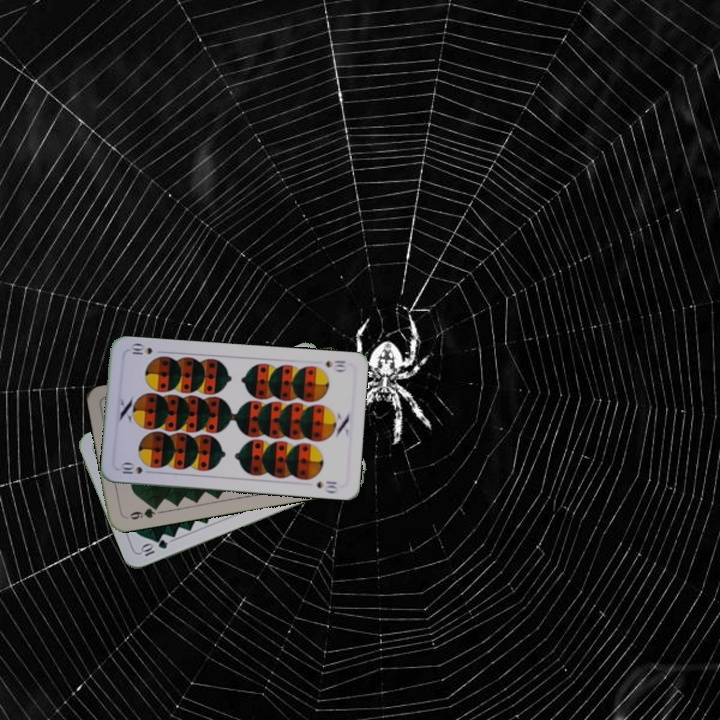G10: (137, 535, 170, 559)
G9: (126, 501, 161, 522)
S10: (321, 356, 348, 374), (117, 460, 145, 476)
